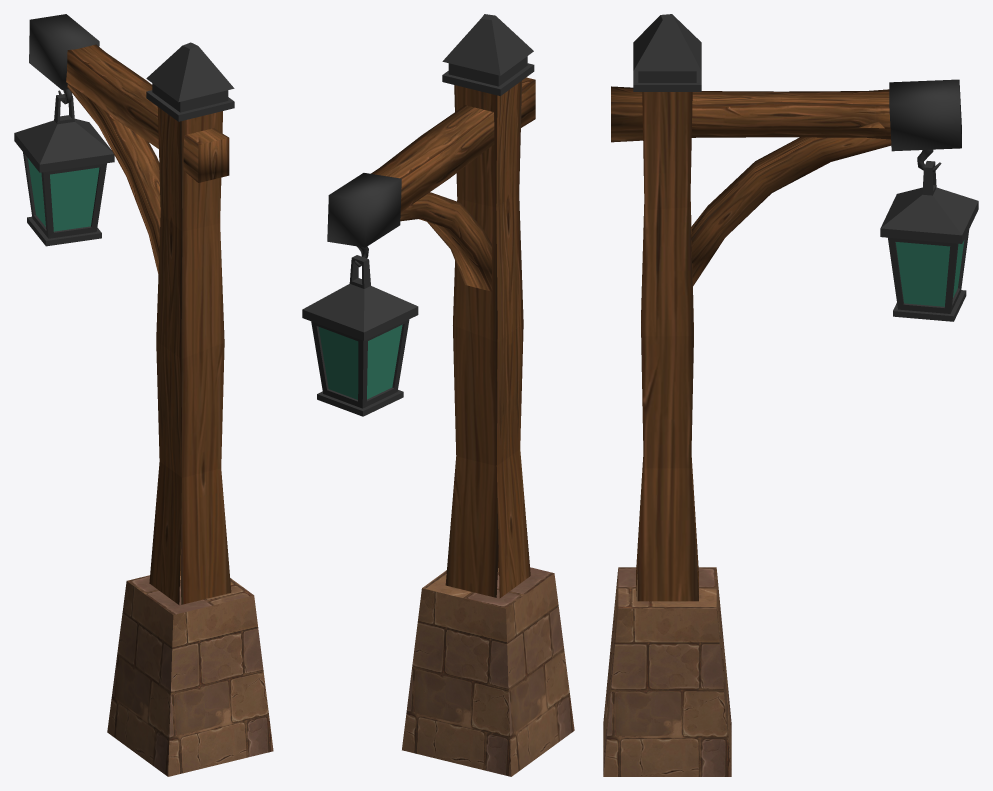
File: Streetlight2.fbx
3 renders of one model, left to right at view 1: azimuth 30°, elevation 25°; view 2: azimuth 150°, elevation 25°; view 3: azimuth 270°, elevation 25°, orthographic. The views are drawn at different scales.
Parts seen in each view (by area): view 1: Lamp; view 2: Lamp; view 3: Lamp.
Part boxes in pixels (bbox=[...]): Lamp: bbox=[14, 14, 273, 776]; Lamp: bbox=[302, 14, 574, 776]; Lamp: bbox=[603, 14, 978, 776].
Size of the model in its own units: 29.23 by 184 by 85.55.
Materials: 3 (2 with a texture image).
